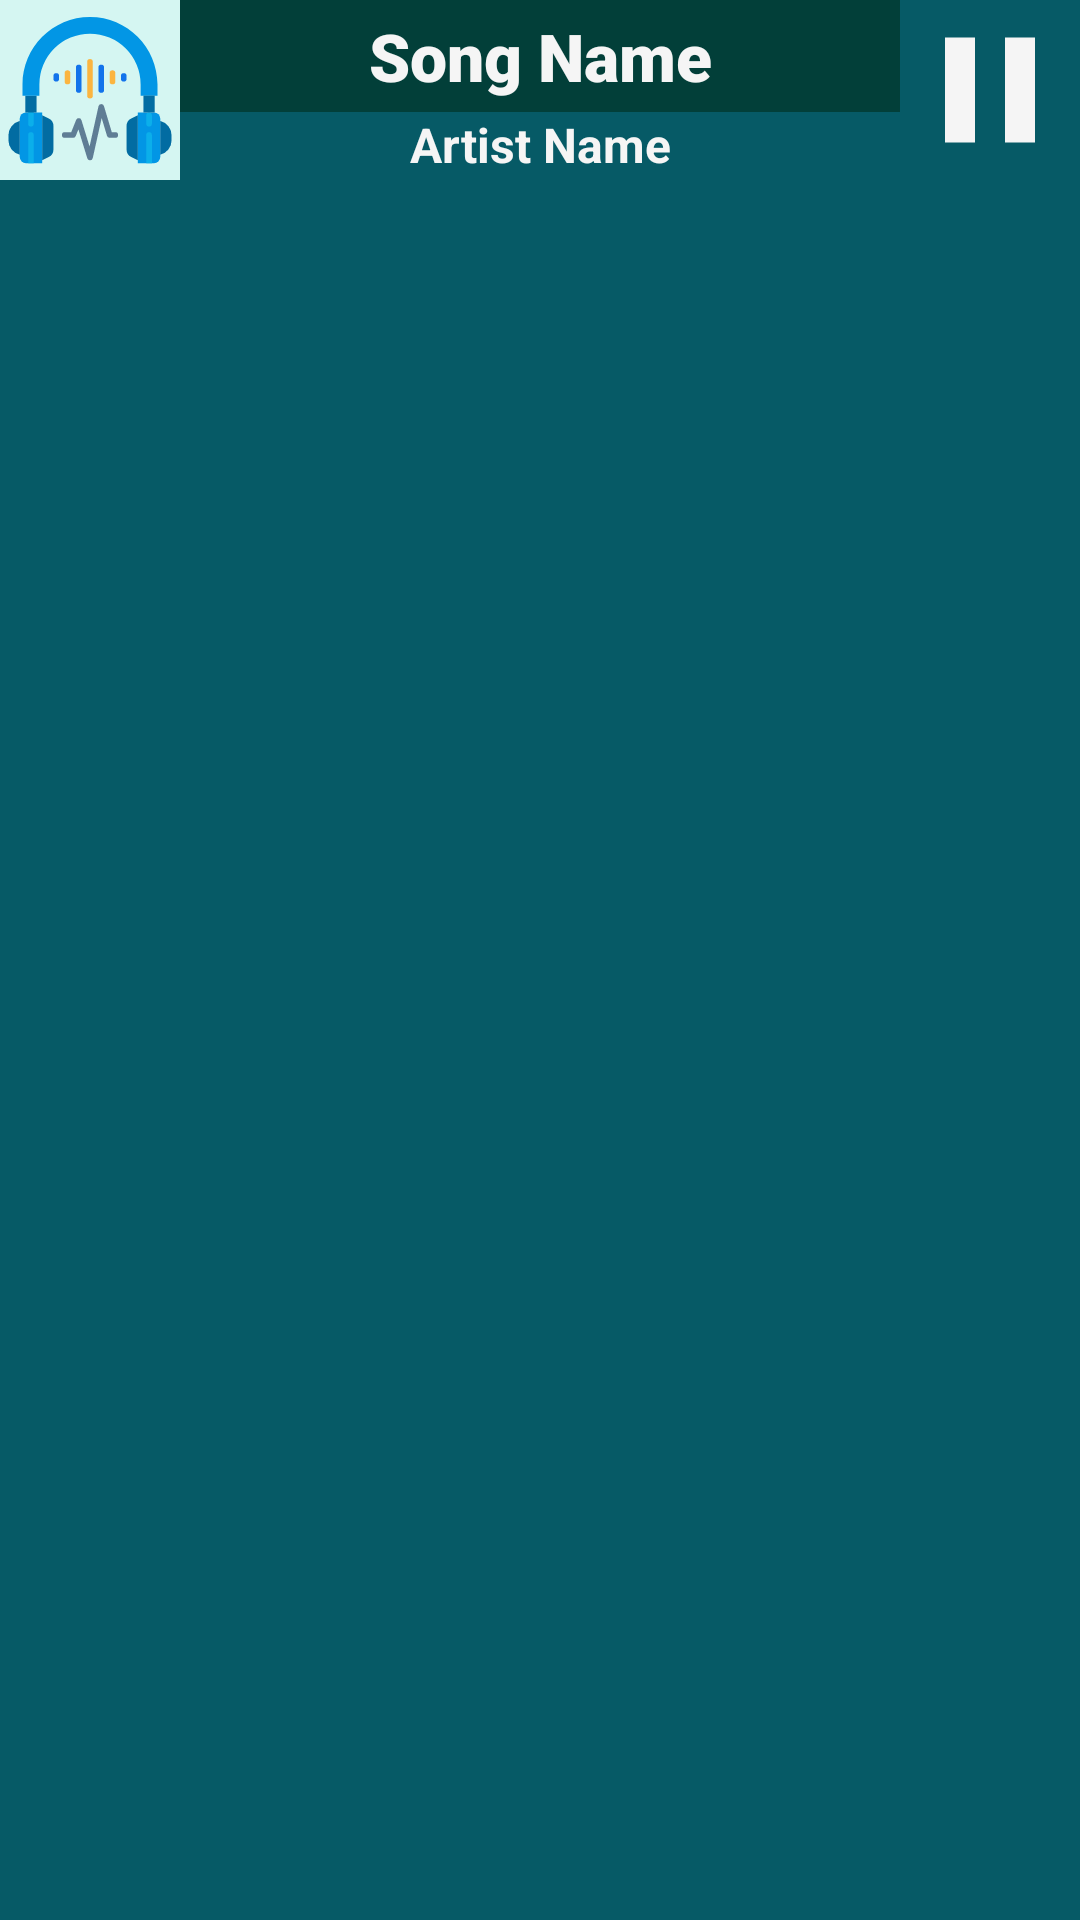

Locate icon controls on the screen. Image size 1080 × 1920, boxes as bbox=(x1, y1, x2, y2).
pause: bbox=(945, 37, 1035, 143)
